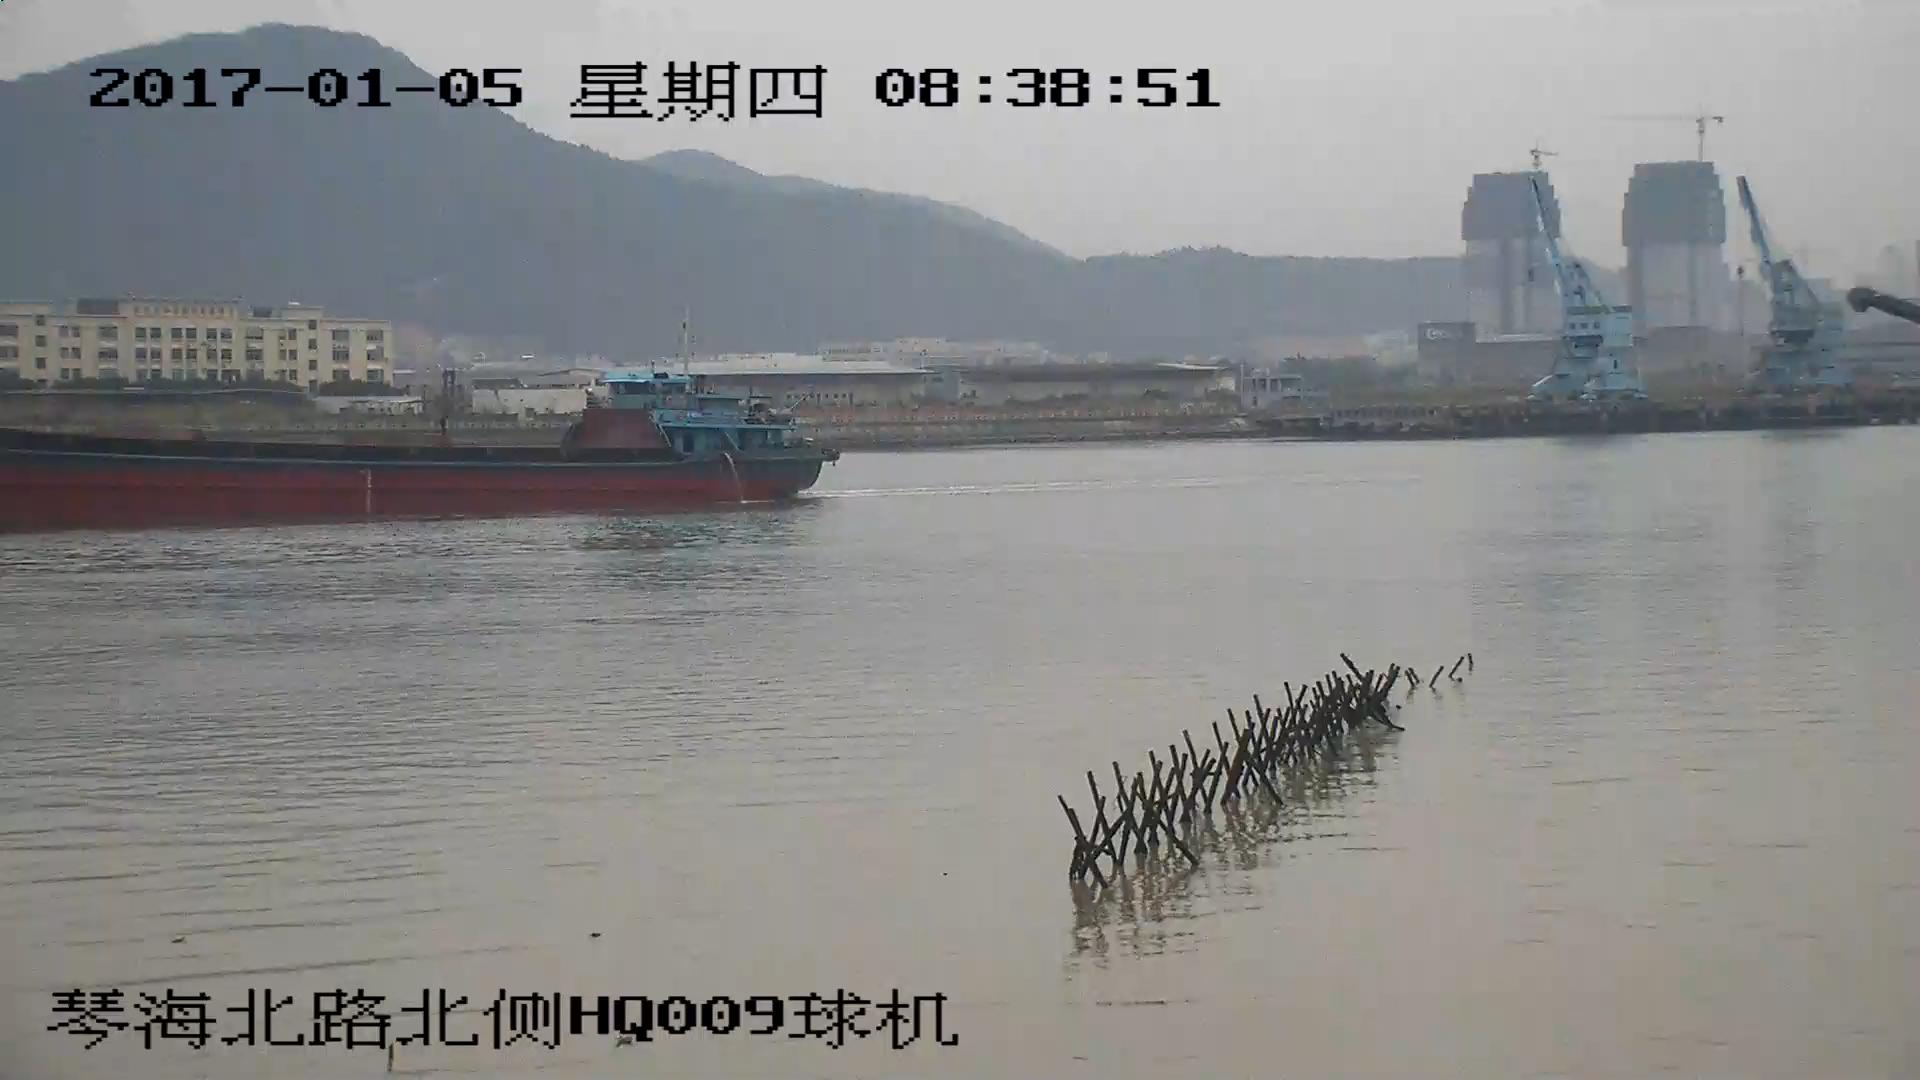bulk cargo carrier: (1, 370, 833, 504)
